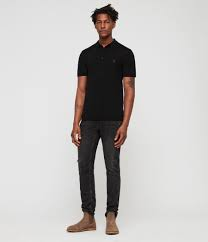S_polo shirt: (72, 33, 134, 123)
